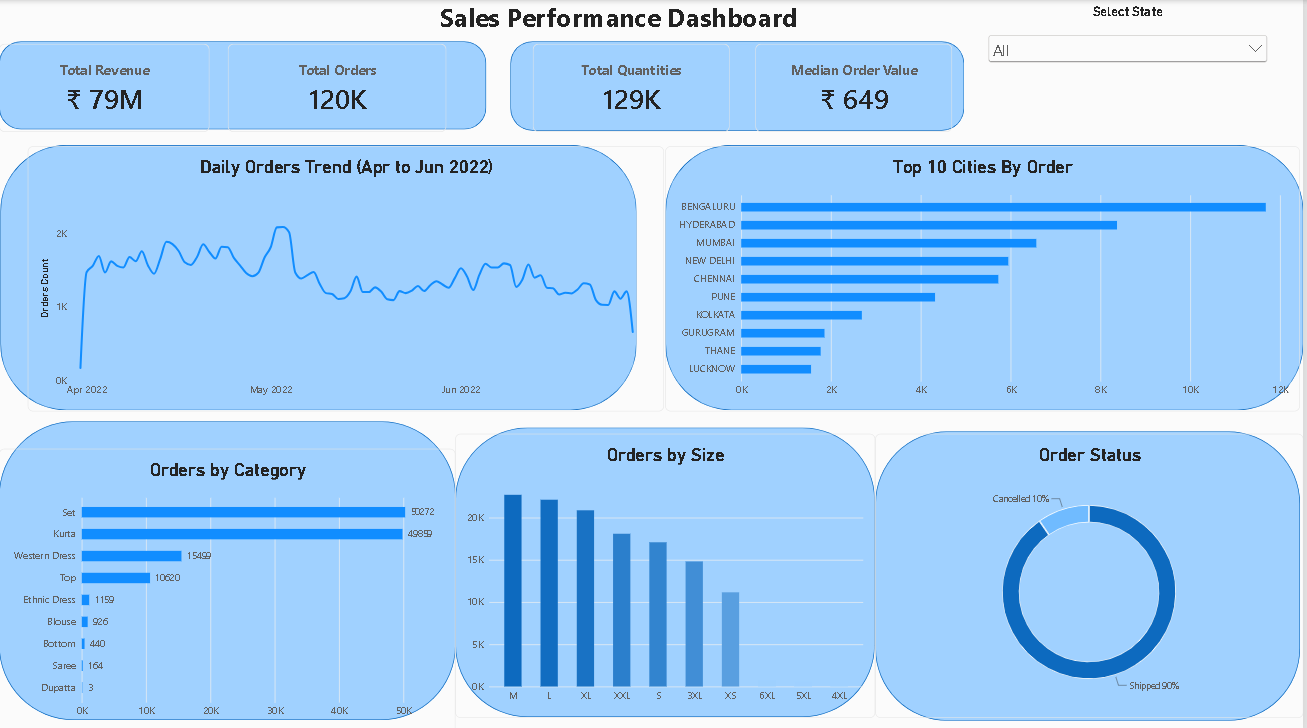

What the dashboard file says about the page in this screenshot:
{"tool":"powerbi","page":{"name":"Page 1","canvas":[1920,1080],"ordinal":0},"visuals":[{"type":"group","id":"g1","title":"background","box":[0,61.3,1920,1000.9],"z":0},{"type":"shape","box":[753.3,61.7,668.3,131.7],"z":0,"group":"g1"},{"type":"shape","box":[0,61.3,717.5,130],"z":1000,"group":"g1"},{"type":"lineChart","title":"Daily Orders Trend (Apr to Jun 2022)","fields":{"Category":["public amazon_sale_report.order_date"],"Y":["CountNonNull(public amazon_sale_report.order_id)"]},"box":[42.5,215,937,390.6],"z":1000},{"type":"barChart","title":"Top 10 Cities By Order","fields":{"Category":["public amazon_sale_report.ship_city"],"Y":["Count(public amazon_sale_report.order_id)"]},"box":[980.4,214.5,934.5,390.6],"z":2000},{"type":"shape","box":[980.4,214.5,939.6,390.6],"z":2000,"group":"g1"},{"type":"shape","box":[671.5,630.7,617.9,426.4],"z":3000,"group":"g1"},{"type":"clusteredColumnChart","title":"Orders by Size","fields":{"Category":["public amazon_sale_report.size"],"Y":["CountNonNull(public amazon_sale_report.category)"]},"box":[671.5,638.3,618,418],"z":3000},{"type":"cardVisual","fields":{"Data":["Count(public amazon_sale_report.order_id)"]},"box":[337,63.8,322.5,130],"z":4000},{"type":"shape","box":[0,620.4,672.5,440],"z":4000,"group":"g1"},{"type":"cardVisual","fields":{"Data":["Sum(public amazon_sale_report.amount)"]},"box":[0,63.8,310,130],"z":5000},{"type":"shape","box":[1289.4,635.8,625.5,426.4],"z":5000,"group":"g1"},{"type":"shape","box":[2.6,214.5,937,390.6],"z":6000,"group":"g1"},{"type":"clusteredBarChart","title":"Orders by Category","fields":{"Category":["public amazon_sale_report.category"],"Y":["CountNonNull(public amazon_sale_report.order_id)"]},"box":[0,661.3,672,418],"z":6000},{"type":"cardVisual","title":"Median Order Value Over Time","fields":{"Data":["Avg(public amazon_sale_report.amount)"]},"box":[1113.2,63.8,290,130],"z":7000},{"type":"donutChart","title":"Order Status","fields":{"Category":["public amazon_sale_report.order_status"],"Y":["CountNonNull(public amazon_sale_report.courier_status)"]},"box":[1289.4,638.3,630,418],"z":8000},{"type":"cardVisual","fields":{"Data":["Sum(public amazon_sale_report.qty)"]},"box":[786.4,63.8,290,130],"z":9000},{"type":"textbox","box":[1.7,0,1821.7,70],"z":10000},{"type":"slicer","title":"Select State","fields":{"Values":["public amazon_sale_report.ship_state"]},"box":[1452,6,420,94],"z":11000}]}

Visuals, with their boxes in screenshot pixels (x1, y1, x2, y2), scaled from the page's 1920x1080 canvas onto the 1307x728 screenshot:
"background" group: detection(0, 41, 1306, 716)
shape: detection(513, 42, 968, 130)
shape: detection(0, 41, 488, 129)
"Daily Orders Trend (Apr to Jun 2022)" lineChart: detection(29, 145, 667, 408)
"Top 10 Cities By Order" barChart: detection(667, 145, 1304, 408)
shape: detection(667, 145, 1306, 408)
shape: detection(457, 425, 878, 713)
"Orders by Size" clusteredColumnChart: detection(457, 430, 878, 712)
cardVisual - Count(public amazon_sale_report.order_id): detection(229, 43, 449, 131)
shape: detection(0, 418, 458, 715)
cardVisual - Sum(public amazon_sale_report.amount): detection(0, 43, 211, 131)
shape: detection(878, 429, 1304, 716)
shape: detection(2, 145, 640, 408)
"Orders by Category" clusteredBarChart: detection(0, 446, 457, 727)
"Median Order Value Over Time" cardVisual: detection(758, 43, 955, 131)
"Order Status" donutChart: detection(878, 430, 1306, 712)
cardVisual - Sum(public amazon_sale_report.qty): detection(535, 43, 733, 131)
textbox: detection(1, 0, 1241, 47)
"Select State" slicer: detection(988, 4, 1274, 67)
